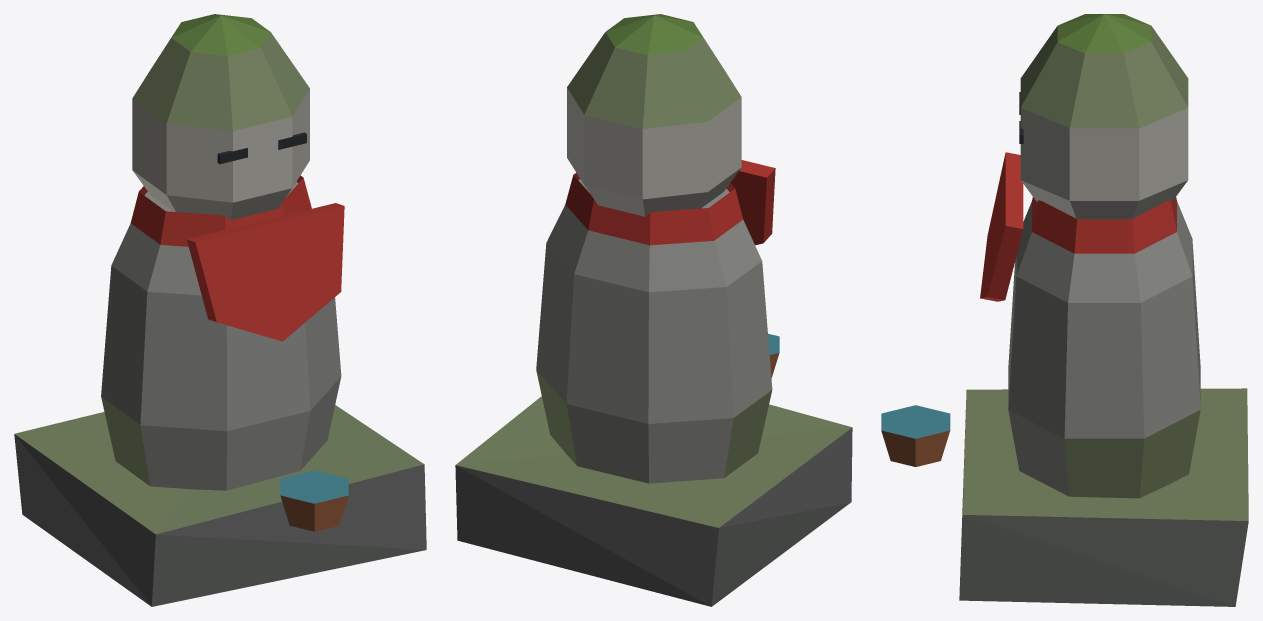
File: grave_stone.fbx
3 renders of one model, left to right at view 1: azimuth 30°, elevation 25°; view 2: azimuth 150°, elevation 25°; view 3: azimuth 270°, elevation 25°, orthographic. The views are drawn at different scales.
Parts seen in each view (by area): view 1: grave_stone; view 2: grave_stone; view 3: grave_stone.
Part boxes in pixels (left/top/right/bottom): grave_stone: left=14, top=14, right=426, bottom=606; grave_stone: left=455, top=14, right=852, bottom=606; grave_stone: left=881, top=14, right=1248, bottom=606.
Bounding box in the file's own units: 0.4375 × 0.7995 × 0.5064.
